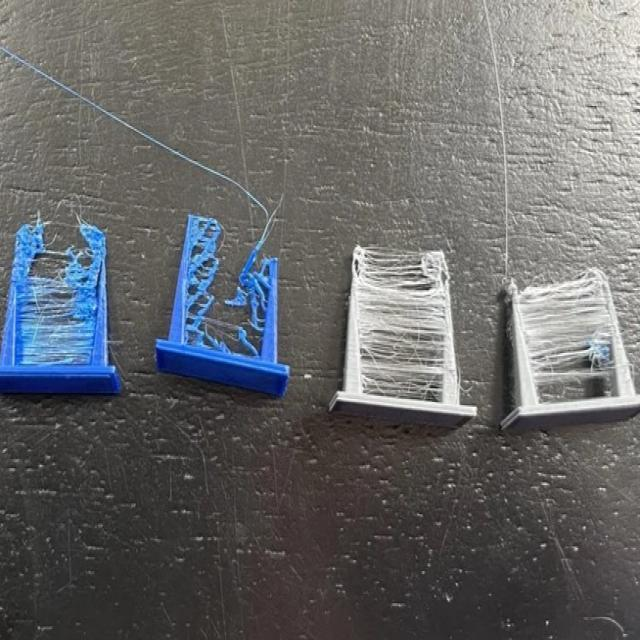Stringing: (354, 241, 448, 407), (511, 270, 623, 386)
